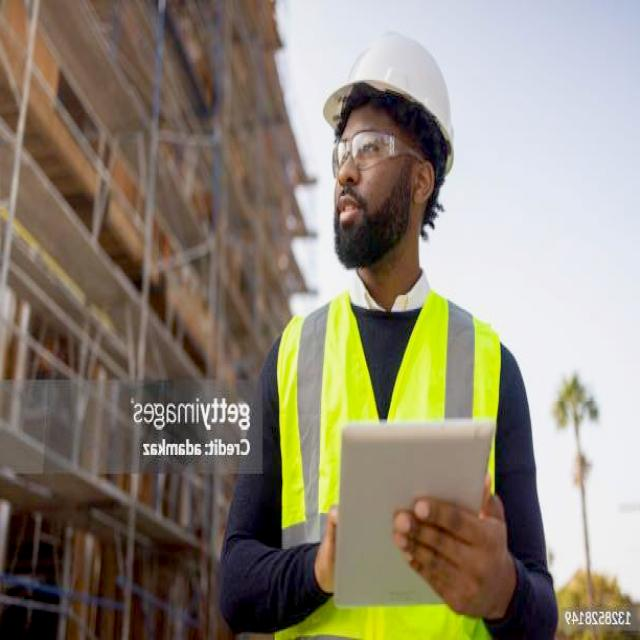Hard Hat: (315, 17, 467, 143)
Reflective Vest: (268, 276, 512, 640)
Safety Glasses: (332, 128, 445, 166)
